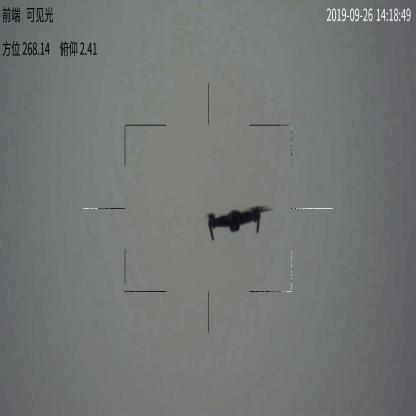uav: (196, 206, 273, 242)
